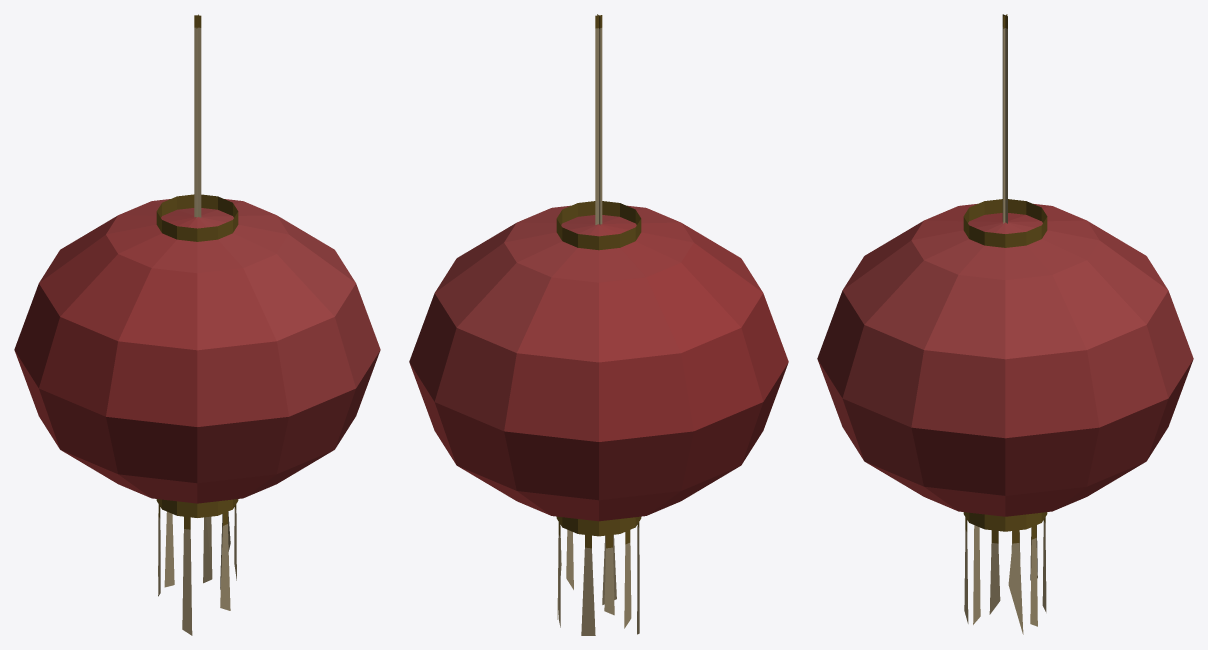
Rendered from Prop_DecorA.fbx.
3 views of the same model, side by side, from view 1: azimuth 30°, elevation 25°; view 2: azimuth 150°, elevation 25°; view 3: azimuth 270°, elevation 25° (orthographic). The views are drawn at different scales.
Visible parts, largest first — view 1: Prop_DecorA; view 2: Prop_DecorA; view 3: Prop_DecorA.
Boxes of the visible parts, box(x1,y1,x2,y2) form: Prop_DecorA: box(14, 14, 380, 635); Prop_DecorA: box(409, 14, 788, 635); Prop_DecorA: box(817, 14, 1193, 634).
Bounding box in the file's own units: 112 × 203 × 112.
